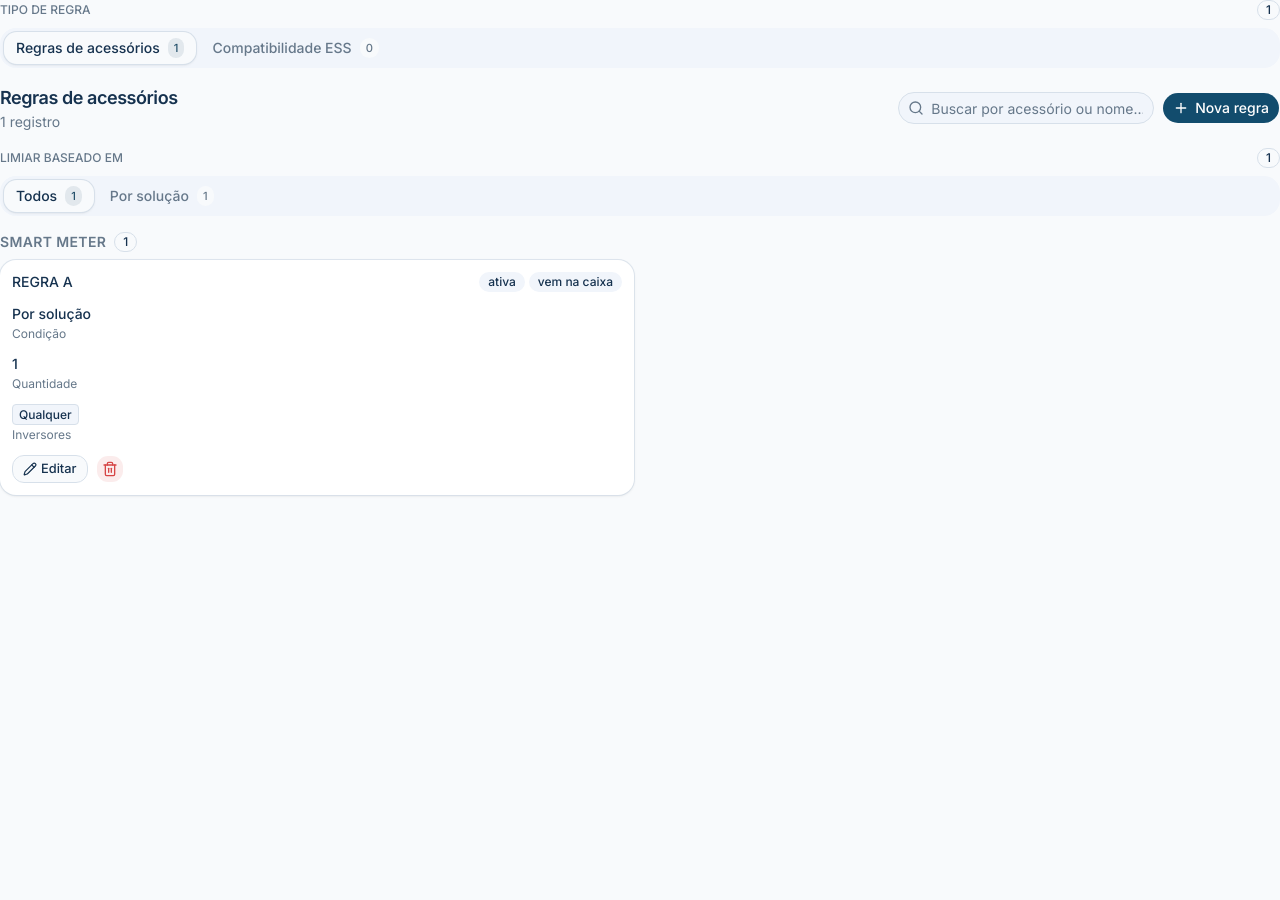
RulesEditor: accessory rules › toggles "Vem na caixa" and shows a badge on the rule card when checked
This screenshot has width=1280, height=900.
Expected: the text "vem na caixa" is shown, left=529, top=272, right=622, bottom=292
Click the button "Editar" at (50, 469), box left=12, top=455, right=88, bottom=483
(page scrolled)
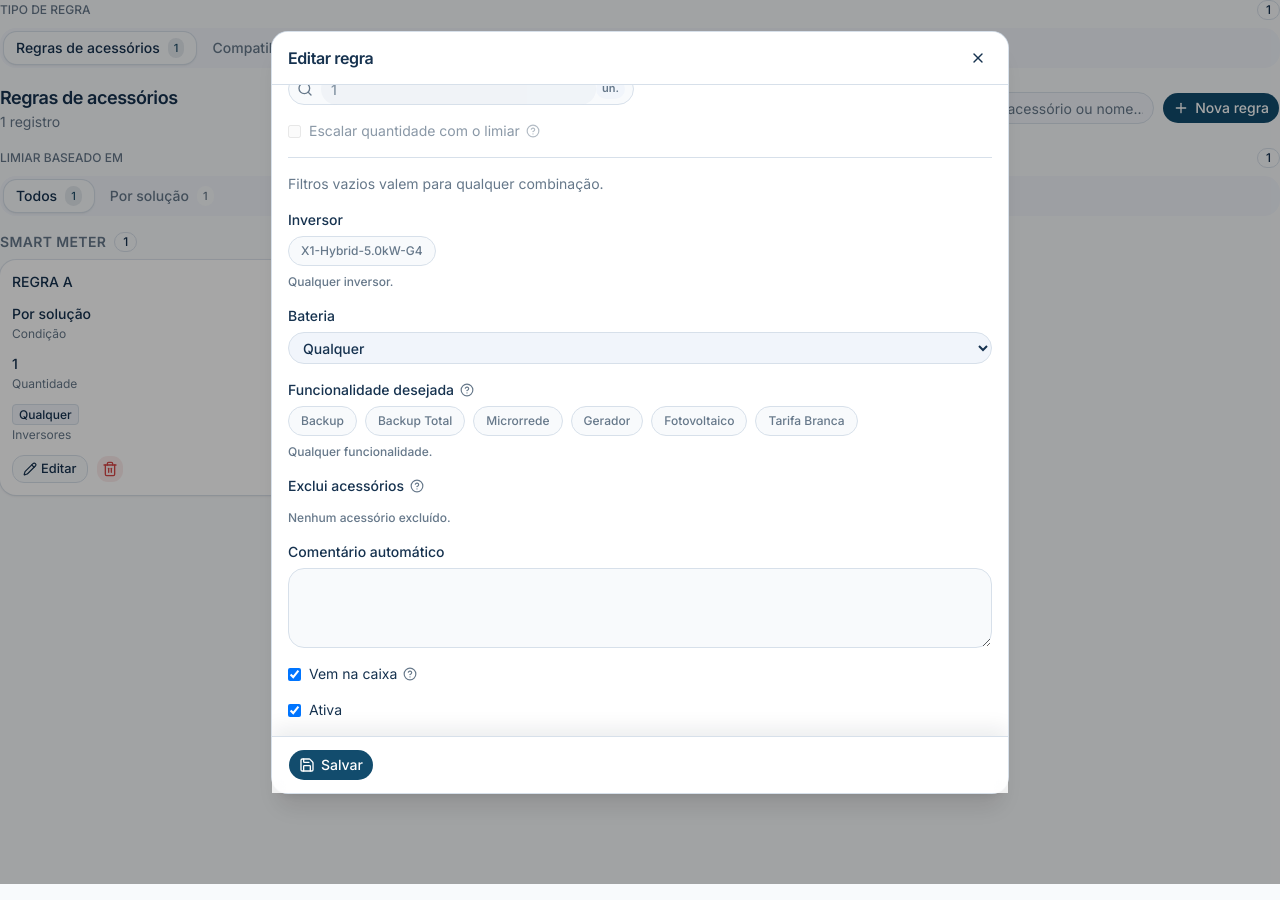
Expected: the checkbox labelled "Vem na caixa" is checked, left=288, top=668, right=301, bottom=680
